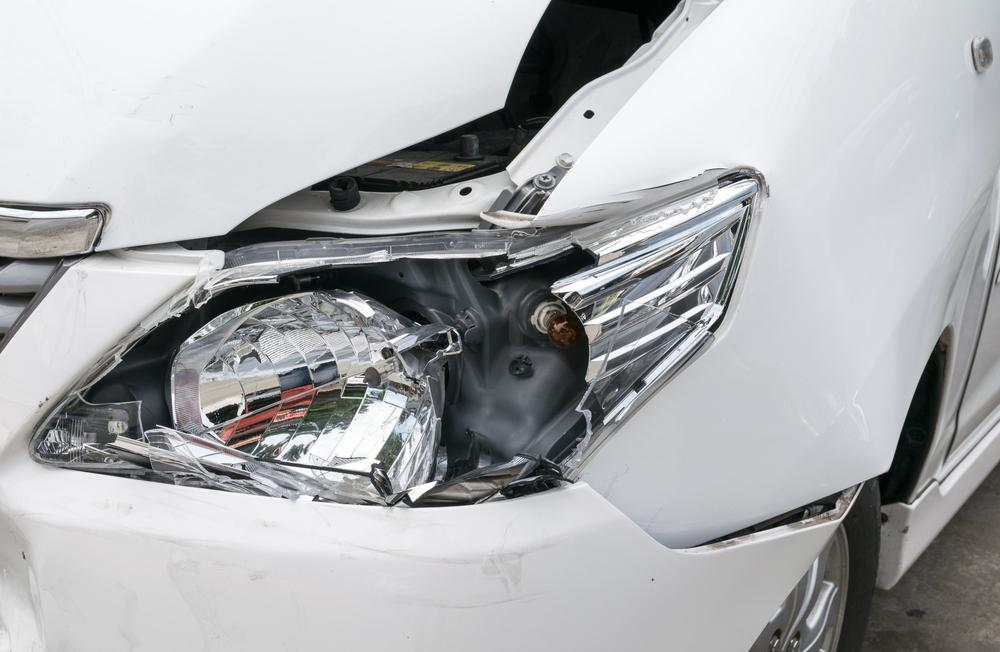dent: (0, 516, 46, 652)
lamp broken: (37, 181, 756, 508)
